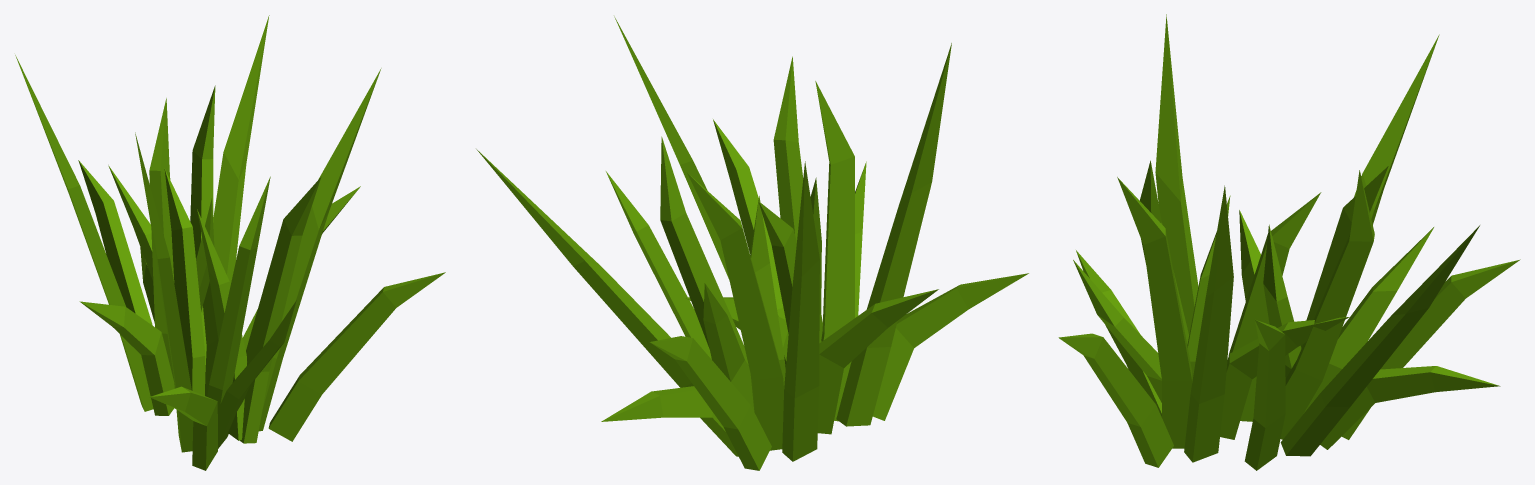
Rendered from Grass_3.fbx.
The picture shows the model from 3 angles, left to right: view 1: azimuth 30°, elevation 25°; view 2: azimuth 150°, elevation 25°; view 3: azimuth 270°, elevation 25°; orthographic projection. The views are drawn at different scales.
Visible parts, largest first — view 1: Grass; view 2: Grass; view 3: Grass.
Part boxes in pixels (x1,y1,x2,y2): Grass: (15, 15, 445, 470); Grass: (476, 16, 1028, 470); Grass: (1058, 14, 1520, 470).
Bounding box in the file's own units: 2.94 × 3.24 × 3.53.
